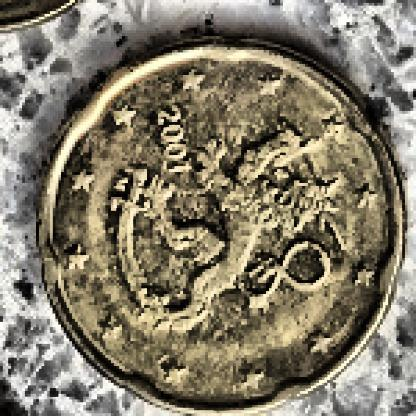coin: (41, 38, 404, 412)
